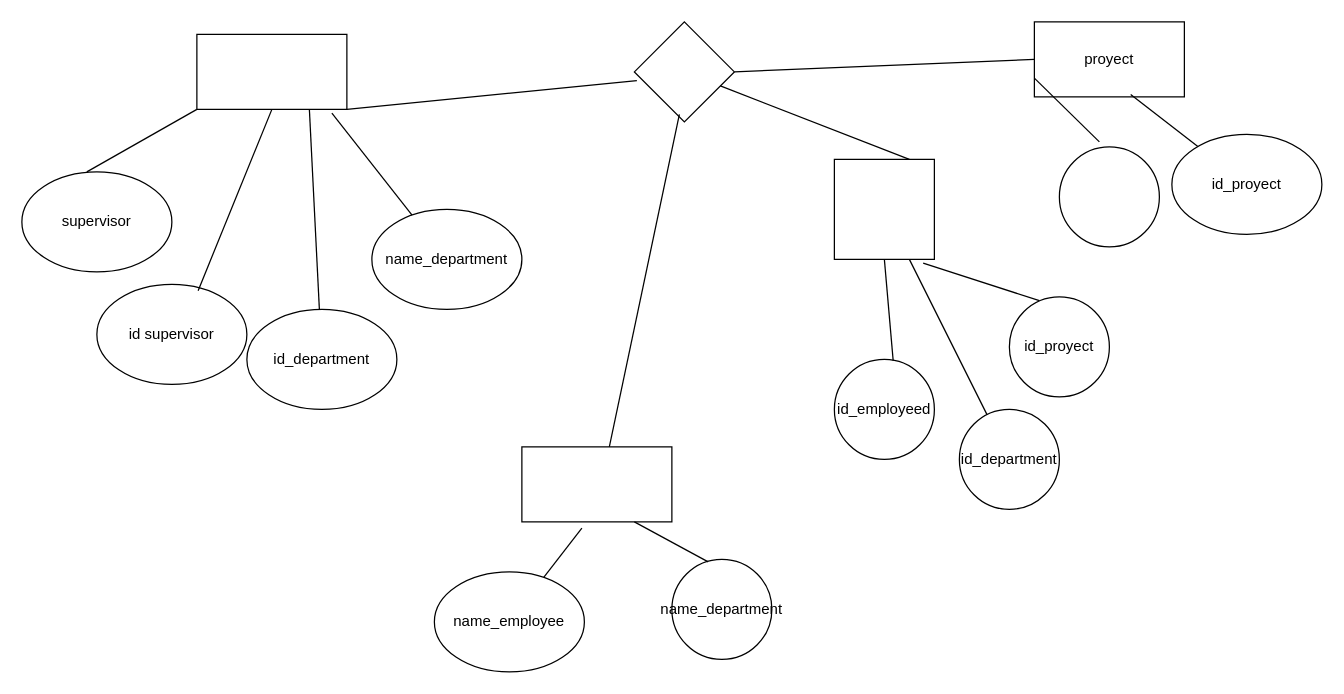
Image size: 1344x694. Some labels were removed from this diagram. The shapes that lost their labels are listed below. From the top down, each one's centre as x and y in pixels, then its label:
(271,71): department
(683,71): asignation
(883,208): assignments
(1108,196): name
(596,484): id_employee
